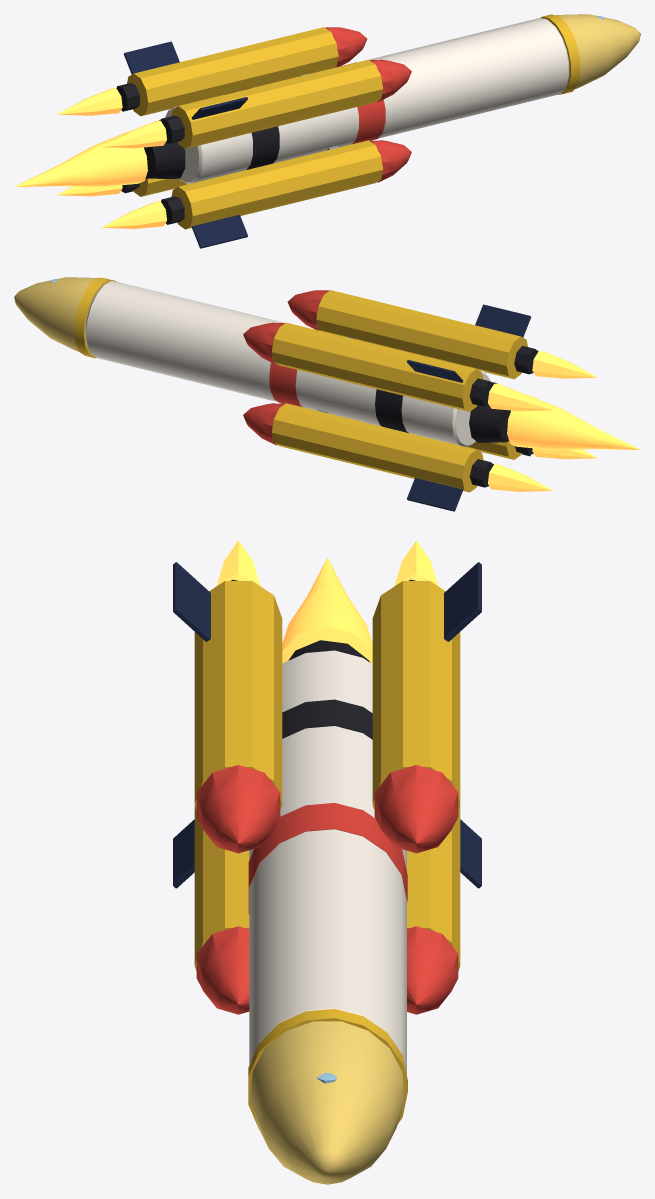
File: rocket.glb
The picture shows the model from 3 angles, top to bottom: view 1: azimuth 30°, elevation 25°; view 2: azimuth 150°, elevation 25°; view 3: azimuth 270°, elevation 25°; orthographic projection. The views are drawn at different scales.
Parts seen in each view (by area): view 1: rocket; view 2: rocket; view 3: rocket.
Boxes of the visible parts, box(x1,y1,x2,y2) form: rocket: box(14, 14, 640, 248); rocket: box(14, 277, 640, 511); rocket: box(173, 540, 481, 1184).
Bounding box in the file's own units: 118 × 25.31 × 25.31.
1 material, 1 textured.
